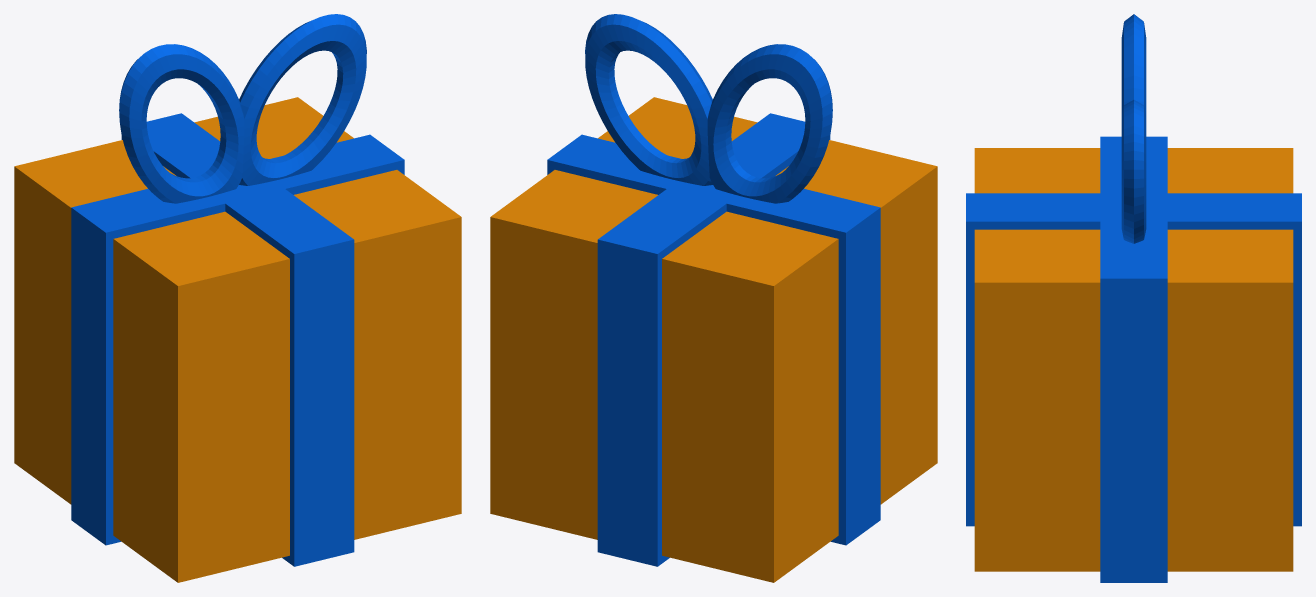
The model's file is presO.fbx.
The picture shows the model from 3 angles, left to right: view 1: azimuth 30°, elevation 25°; view 2: azimuth 150°, elevation 25°; view 3: azimuth 270°, elevation 25°; orthographic projection. The views are drawn at different scales.
Parts seen in each view (by area): view 1: PresO; view 2: PresO; view 3: PresO.
Part boxes in pixels (x1=…): PresO: x1=14, y1=14, x2=461, y2=582; PresO: x1=490, y1=14, x2=937, y2=582; PresO: x1=966, y1=14, x2=1301, y2=582.
Size of the model in its own units: 211 by 317 by 211.
